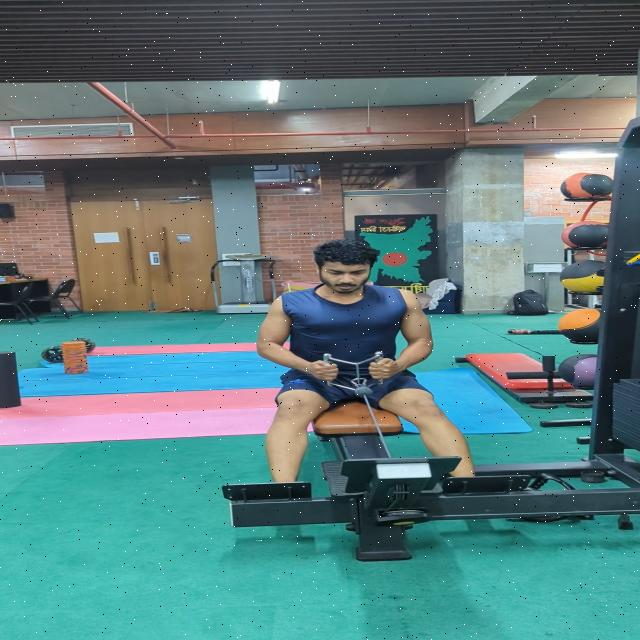Normal_RowingMachineExercise: (256, 240, 478, 496)
